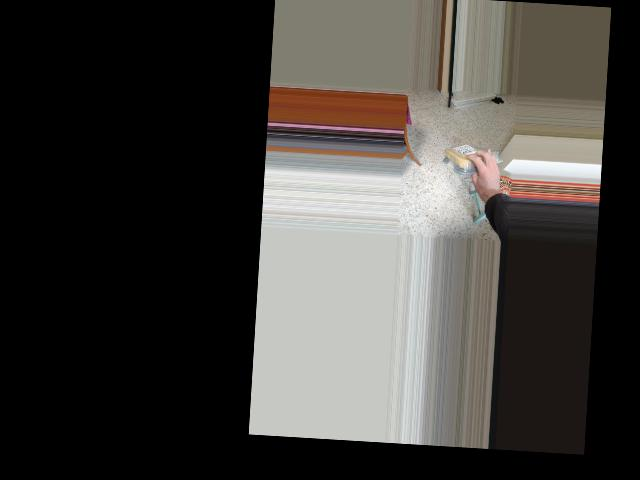cheese: (442, 143, 495, 172)
